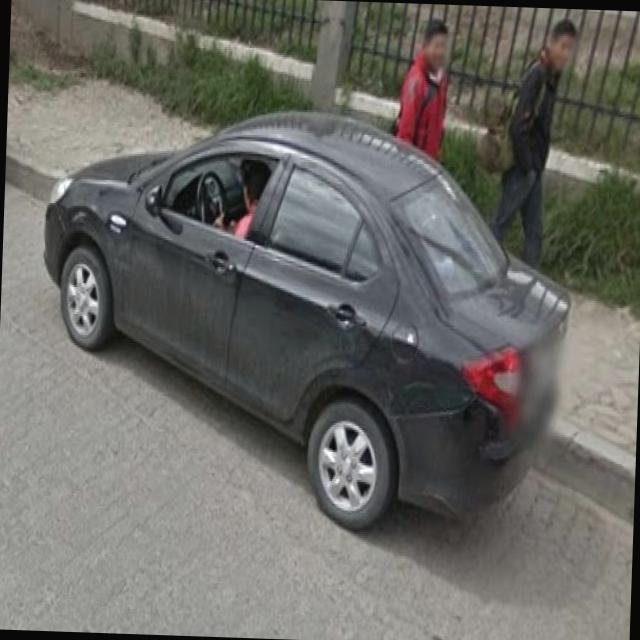car: (34, 90, 577, 538)
